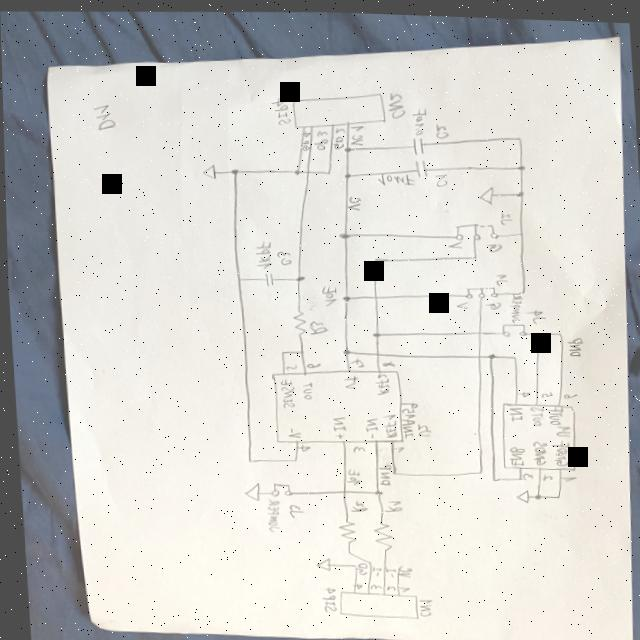capacitor: (411, 156, 427, 175), (409, 133, 424, 152), (260, 269, 273, 285)
crossover: (303, 166, 311, 173), (370, 292, 378, 298), (474, 326, 481, 332), (337, 486, 343, 493), (371, 348, 377, 354), (473, 352, 479, 356)
ground: (474, 182, 494, 203), (239, 480, 258, 500), (309, 554, 329, 570), (199, 161, 216, 179), (511, 485, 526, 499)
junction: (337, 229, 348, 237), (368, 328, 379, 336), (338, 345, 348, 353), (228, 166, 238, 174), (341, 169, 351, 177), (292, 272, 302, 280), (530, 489, 540, 497), (339, 292, 349, 299), (370, 486, 380, 493), (515, 186, 523, 194), (276, 347, 284, 354), (515, 161, 524, 167), (485, 350, 494, 356), (294, 347, 303, 353), (242, 456, 250, 462), (551, 490, 559, 496), (233, 275, 241, 281), (487, 473, 495, 479), (291, 167, 299, 173), (342, 144, 350, 150), (516, 227, 523, 233), (369, 255, 377, 260), (322, 168, 330, 173), (388, 467, 394, 473), (473, 466, 480, 471), (515, 132, 521, 137), (470, 252, 476, 257), (508, 351, 514, 356), (289, 456, 295, 461), (555, 327, 561, 332), (530, 328, 536, 332), (513, 473, 519, 477), (363, 558, 369, 562), (347, 561, 352, 565), (342, 548, 347, 552), (519, 286, 523, 290)
resistor: (368, 517, 390, 550), (288, 306, 306, 336), (334, 516, 353, 542)
switch: (449, 217, 497, 240), (460, 281, 496, 296), (498, 318, 525, 336), (266, 479, 289, 496)
terminal: (289, 87, 387, 131), (332, 585, 416, 620)
text: (396, 398, 417, 437), (269, 95, 291, 124), (546, 434, 568, 463), (384, 88, 405, 118), (375, 169, 414, 185), (251, 237, 271, 268), (262, 496, 278, 531), (276, 375, 292, 407), (505, 289, 522, 319), (527, 436, 545, 463), (410, 104, 426, 134), (317, 583, 334, 611), (377, 410, 394, 436), (370, 369, 387, 394), (503, 441, 523, 462), (542, 401, 562, 422), (521, 303, 544, 321), (318, 283, 336, 305), (563, 332, 581, 354), (525, 402, 542, 424), (328, 414, 344, 437), (344, 496, 365, 512), (360, 415, 376, 436), (374, 461, 389, 483), (283, 500, 302, 517), (341, 465, 358, 484), (306, 318, 327, 333), (430, 168, 448, 185), (391, 561, 409, 578), (274, 247, 291, 264), (432, 120, 449, 137), (338, 372, 356, 388), (504, 402, 520, 419), (414, 596, 429, 614), (379, 497, 399, 510), (551, 420, 568, 434), (482, 237, 500, 250), (413, 419, 428, 434), (344, 193, 359, 208), (444, 236, 462, 248), (298, 379, 310, 397), (312, 135, 327, 149), (491, 270, 506, 284), (283, 424, 298, 437), (558, 386, 576, 396), (349, 130, 364, 142), (380, 562, 392, 577), (497, 208, 511, 220), (330, 134, 344, 146), (481, 298, 499, 307), (289, 441, 307, 450), (303, 358, 319, 368), (351, 560, 364, 572), (297, 137, 309, 150), (512, 385, 527, 395), (346, 355, 360, 365), (452, 297, 467, 306), (364, 580, 378, 589), (368, 563, 378, 575), (556, 471, 573, 478), (378, 357, 392, 365), (349, 442, 363, 450), (538, 386, 550, 395), (283, 360, 295, 369), (348, 122, 363, 129), (537, 469, 550, 477), (380, 582, 393, 590), (314, 127, 327, 135), (519, 468, 531, 476), (348, 580, 360, 588), (332, 125, 344, 133), (298, 127, 310, 135), (395, 582, 406, 589), (390, 444, 401, 450)
